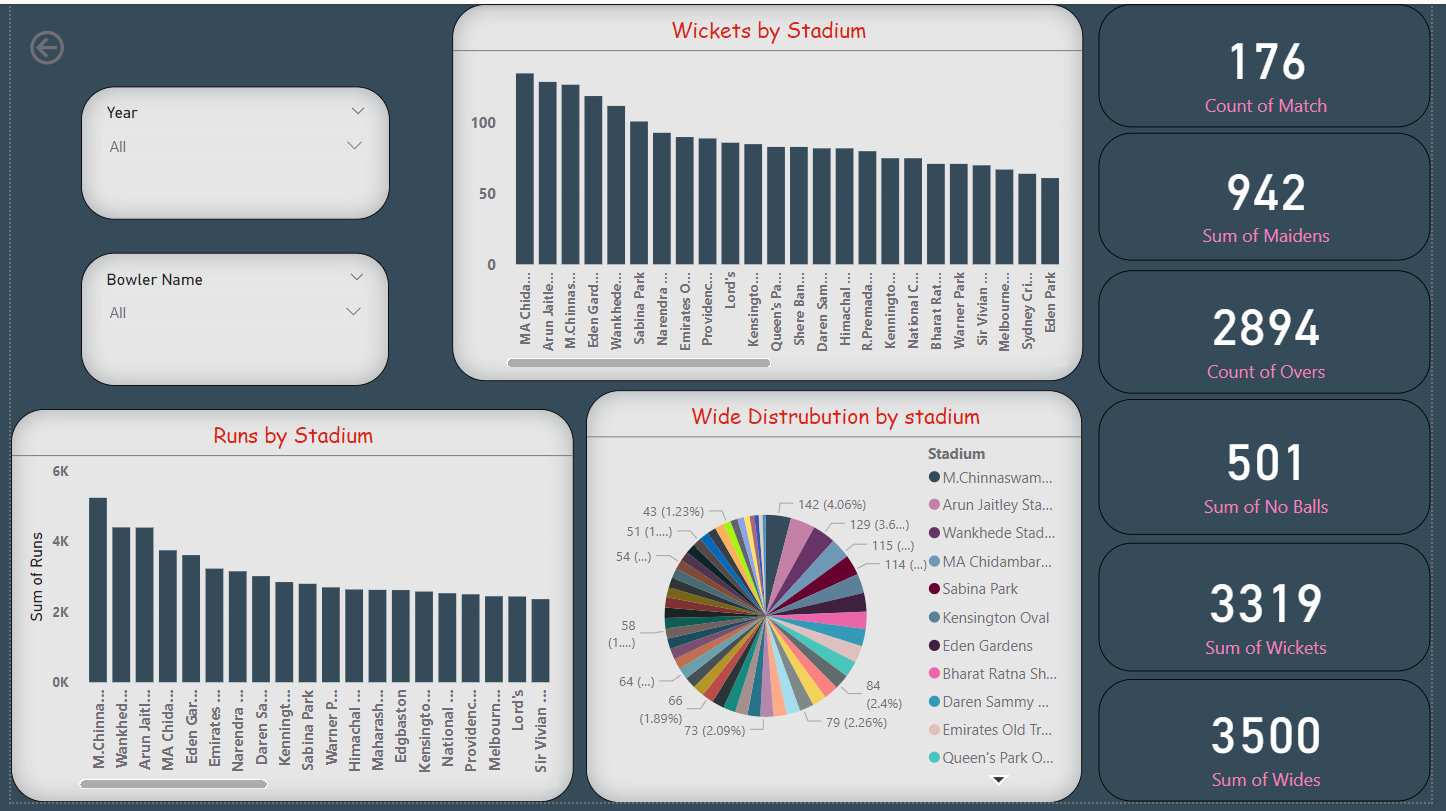

The dashboard page shown, as its layout file describes it:
{"tool":"powerbi","page":{"name":"Bowler Analysis","canvas":[1280,720],"ordinal":7},"visuals":[{"type":"slicer","fields":{"Values":["Complte_Bowling_Data_ 2007_To_2.Bowler Name"]},"box":[63.6,223.7,277.5,119.8],"z":0},{"type":"card","fields":{"Values":["Sum(Complte_Bowling_Data_ 2007_To_2.Wickets)"]},"box":[980.4,485.3,299.5,116.1],"z":1000},{"type":"slicer","fields":{"Values":["Complte_Bowling_Data_ 2007_To_2.Year"]},"box":[63.6,74.6,278.7,119.8],"z":2000},{"type":"columnChart","title":"Wickets by Stadium","fields":{"Y":["Sum(Complte_Bowling_Data_ 2007_To_2.Wickets)"],"Category":["Complte_Bowling_Data_ 2007_To_2.Stadium"]},"box":[397.3,0,568.4,339.8],"z":3000},{"type":"card","fields":{"Values":["Count(Complte_Bowling_Data_ 2007_To_2.Match)"]},"box":[980.4,0,299.5,111.2],"z":4000},{"type":"card","fields":{"Values":["Sum(Complte_Bowling_Data_ 2007_To_2.Wides)"]},"box":[980.4,608.8,299.5,110],"z":5000},{"type":"card","fields":{"Values":["CountNonNull(Complte_Bowling_Data_ 2007_To_2.Overs)"]},"box":[980.4,239.6,299.5,111.2],"z":6000},{"type":"card","fields":{"Values":["Sum(Complte_Bowling_Data_ 2007_To_2.No Balls)"]},"box":[980.4,355.7,299.5,122.2],"z":7000},{"type":"card","fields":{"Values":["Sum(Complte_Bowling_Data_ 2007_To_2.Maidens)"]},"box":[980.4,116.1,299.5,114.9],"z":8000},{"type":"pieChart","title":"Wide Distrubution by stadium","fields":{"Category":["Complte_Bowling_Data_ 2007_To_2.Stadium"],"Y":["Sum(Complte_Bowling_Data_ 2007_To_2.Wides)"]},"box":[518.3,348.4,447.4,371.6],"z":9000},{"type":"columnChart","title":"Runs by Stadium","fields":{"Category":["Complte_Bowling_Data_ 2007_To_2.Stadium"],"Y":["Sum(Complte_Bowling_Data_ 2007_To_2.Runs)"]},"box":[0,365.5,507.3,354.5],"z":10000},{"type":"actionButton","box":[12.2,19.6,100.2,40.3],"z":11000}]}

Visuals, with their boxes in screenshot pixels (x1, y1, x2, y2), scaled from the page's 1280x720 canvas onto the 1446x811 screenshot:
slicer - Complte_Bowling_Data_ 2007_To_2.Bowler Name: [x1=72, y1=252, x2=385, y2=387]
card - Sum(Complte_Bowling_Data_ 2007_To_2.Wickets): [x1=1108, y1=547, x2=1445, y2=677]
slicer - Complte_Bowling_Data_ 2007_To_2.Year: [x1=72, y1=84, x2=387, y2=219]
"Wickets by Stadium" columnChart: [x1=449, y1=0, x2=1091, y2=383]
card - Count(Complte_Bowling_Data_ 2007_To_2.Match): [x1=1108, y1=0, x2=1445, y2=125]
card - Sum(Complte_Bowling_Data_ 2007_To_2.Wides): [x1=1108, y1=686, x2=1445, y2=810]
card - CountNonNull(Complte_Bowling_Data_ 2007_To_2.Overs): [x1=1108, y1=270, x2=1445, y2=395]
card - Sum(Complte_Bowling_Data_ 2007_To_2.No Balls): [x1=1108, y1=401, x2=1445, y2=538]
card - Sum(Complte_Bowling_Data_ 2007_To_2.Maidens): [x1=1108, y1=131, x2=1445, y2=260]
"Wide Distrubution by stadium" pieChart: [x1=586, y1=392, x2=1091, y2=810]
"Runs by Stadium" columnChart: [x1=0, y1=412, x2=573, y2=810]
actionButton: [x1=14, y1=22, x2=127, y2=67]
